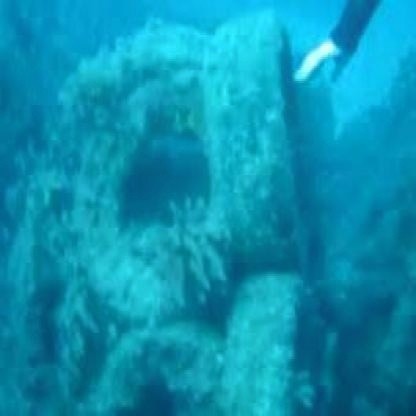tire: (61, 26, 261, 331), (201, 5, 326, 306)
